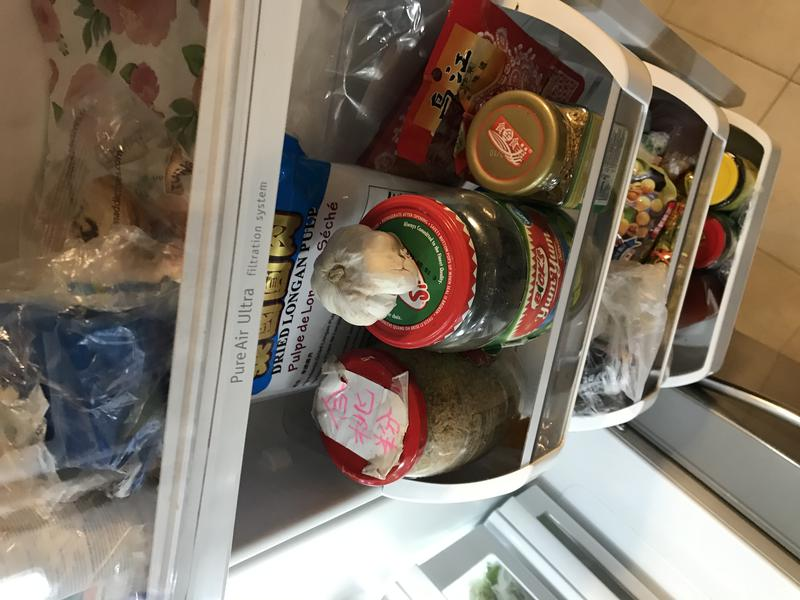garlic: (306, 225, 420, 328)
